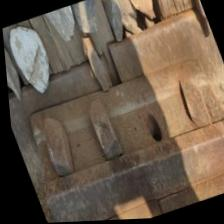person: (79, 38, 139, 99)
